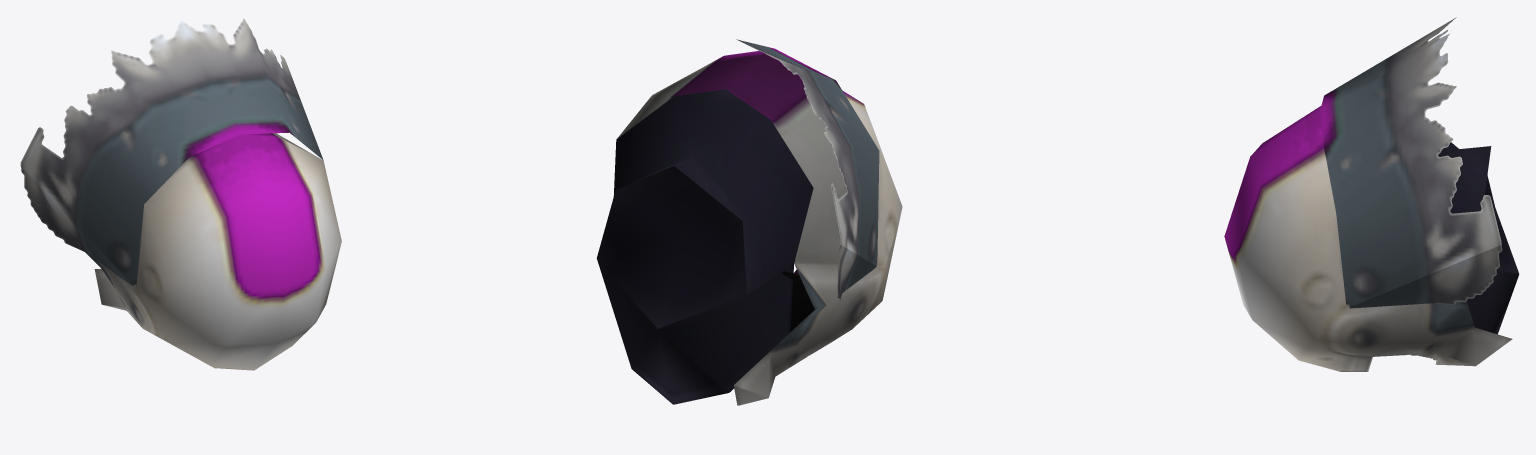
File: model_almire.glb
3 renders of one model, left to right at view 1: azimuth 30°, elevation 25°; view 2: azimuth 150°, elevation 25°; view 3: azimuth 270°, elevation 25°, orthographic. The views are drawn at different scales.
Visible parts, largest first — view 1: skelly.model_almire-Mesh[0]; view 2: skelly.model_almire-Mesh[0], face.part_model_face-Mesh[0]; view 3: skelly.model_almire-Mesh[0].
Boxes of the visible parts, x1,y1,x2,y2 form: skelly.model_almire-Mesh[0]: (20, 18, 341, 370); skelly.model_almire-Mesh[0]: (596, 39, 902, 405); face.part_model_face-Mesh[0]: (781, 271, 814, 331); skelly.model_almire-Mesh[0]: (1224, 17, 1519, 371).
Bounding box in the file's own units: 0.6378 × 0.719 × 0.8034.
2 materials, 2 textured.
